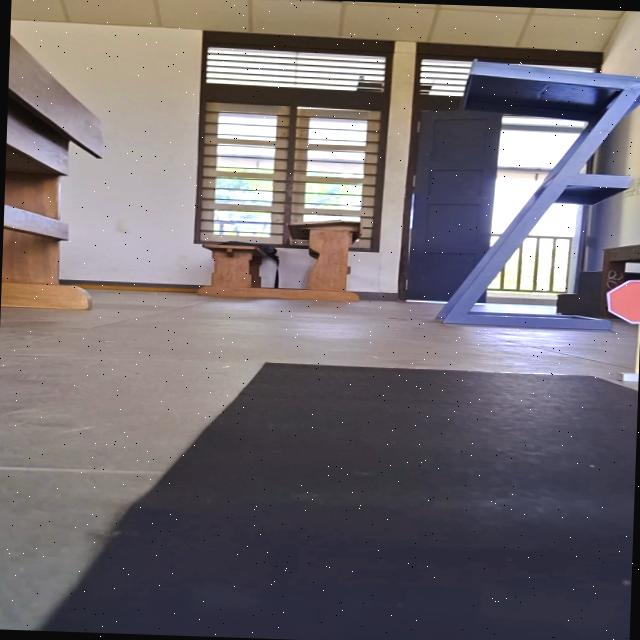Stop: (597, 277, 640, 324)
